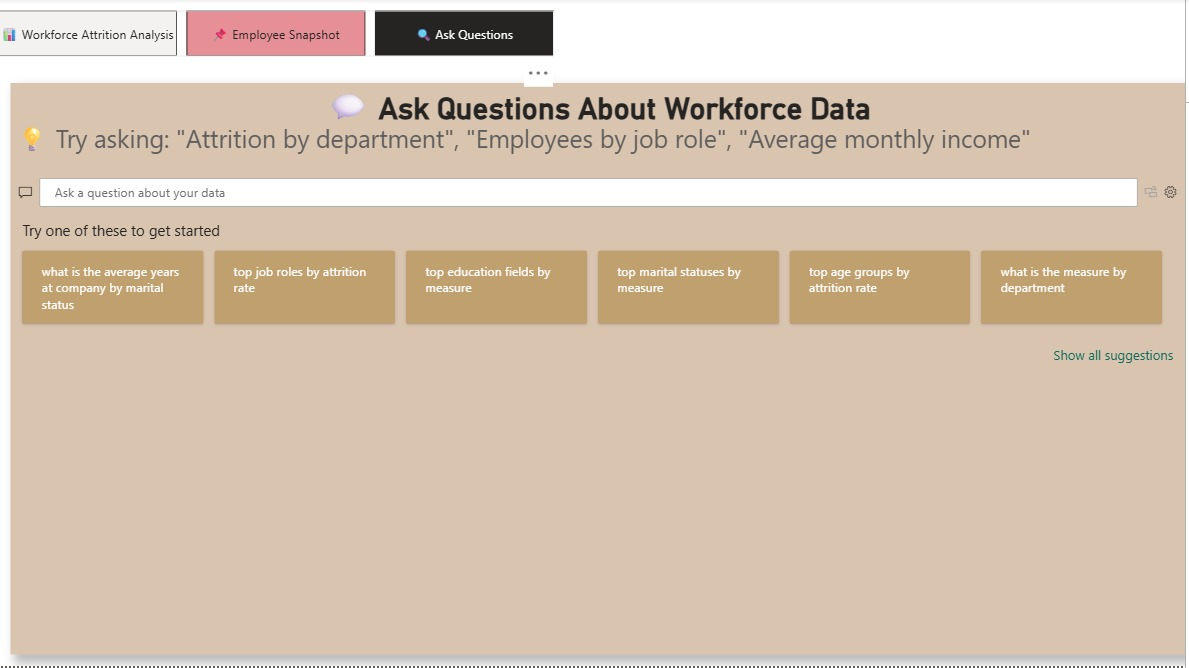

The page's visual inventory and layout, read from the dashboard file:
{"tool":"powerbi","page":{"name":"🔍 Ask Questions","canvas":[1280,720],"ordinal":2},"visuals":[{"type":"qnaVisual","title":"💬 Ask Questions About Workforce Data","box":[13.7,91.9,1266.6,616.1],"z":0},{"type":"pageNavigator","box":[0,13.5,599.7,49.9],"z":1000}]}

Visuals, with their boxes on the page's 1280x720 design canvas (x1, y1, x2, y2). These are canvas units, not pixel positions in the 1189x668 screenshot, which may show the page scaled, cropped or inside an application window:
"💬 Ask Questions About Workforce Data" qnaVisual: bbox=[14, 92, 1280, 708]
pageNavigator: bbox=[0, 14, 600, 63]
